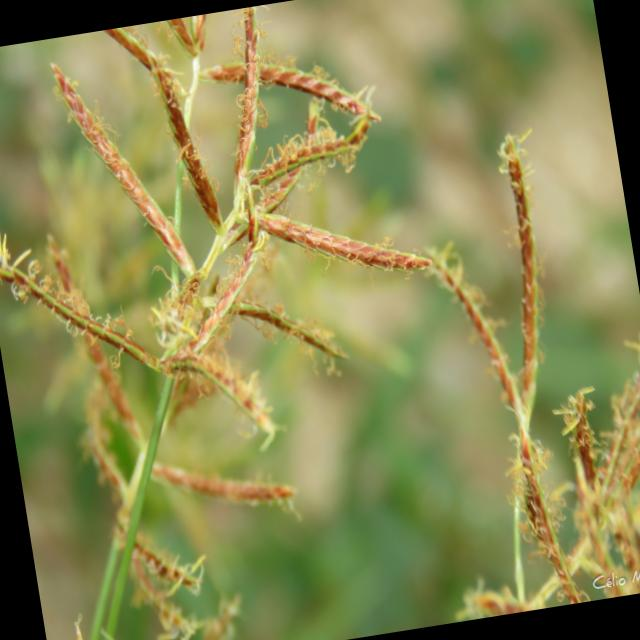cyperus: (0, 0, 483, 640), (399, 115, 640, 619)
